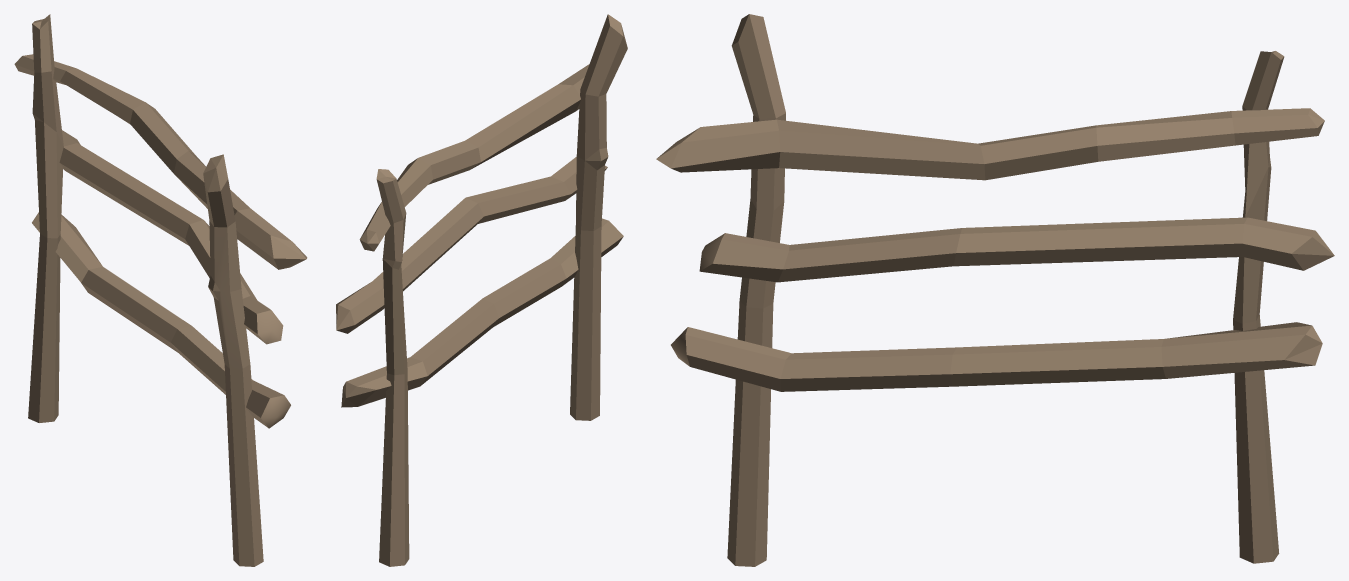
File: SM_Prop_Makeshift_Fence_01.glb
3 views of the same model, side by side, from view 1: azimuth 30°, elevation 25°; view 2: azimuth 150°, elevation 25°; view 3: azimuth 270°, elevation 25° (orthographic). The views are drawn at different scales.
Visible parts, largest first — view 1: SM_Prop_Makeshift_Fence_01; view 2: SM_Prop_Makeshift_Fence_01; view 3: SM_Prop_Makeshift_Fence_01.
Part boxes in pixels (x1,y1,x2,y2): SM_Prop_Makeshift_Fence_01: (14,14,307,566); SM_Prop_Makeshift_Fence_01: (336,14,627,566); SM_Prop_Makeshift_Fence_01: (656,14,1334,566).
Size of the model in its own units: 0.525 by 2.34 by 2.72.
Materials: 1 (1 with a texture image).
